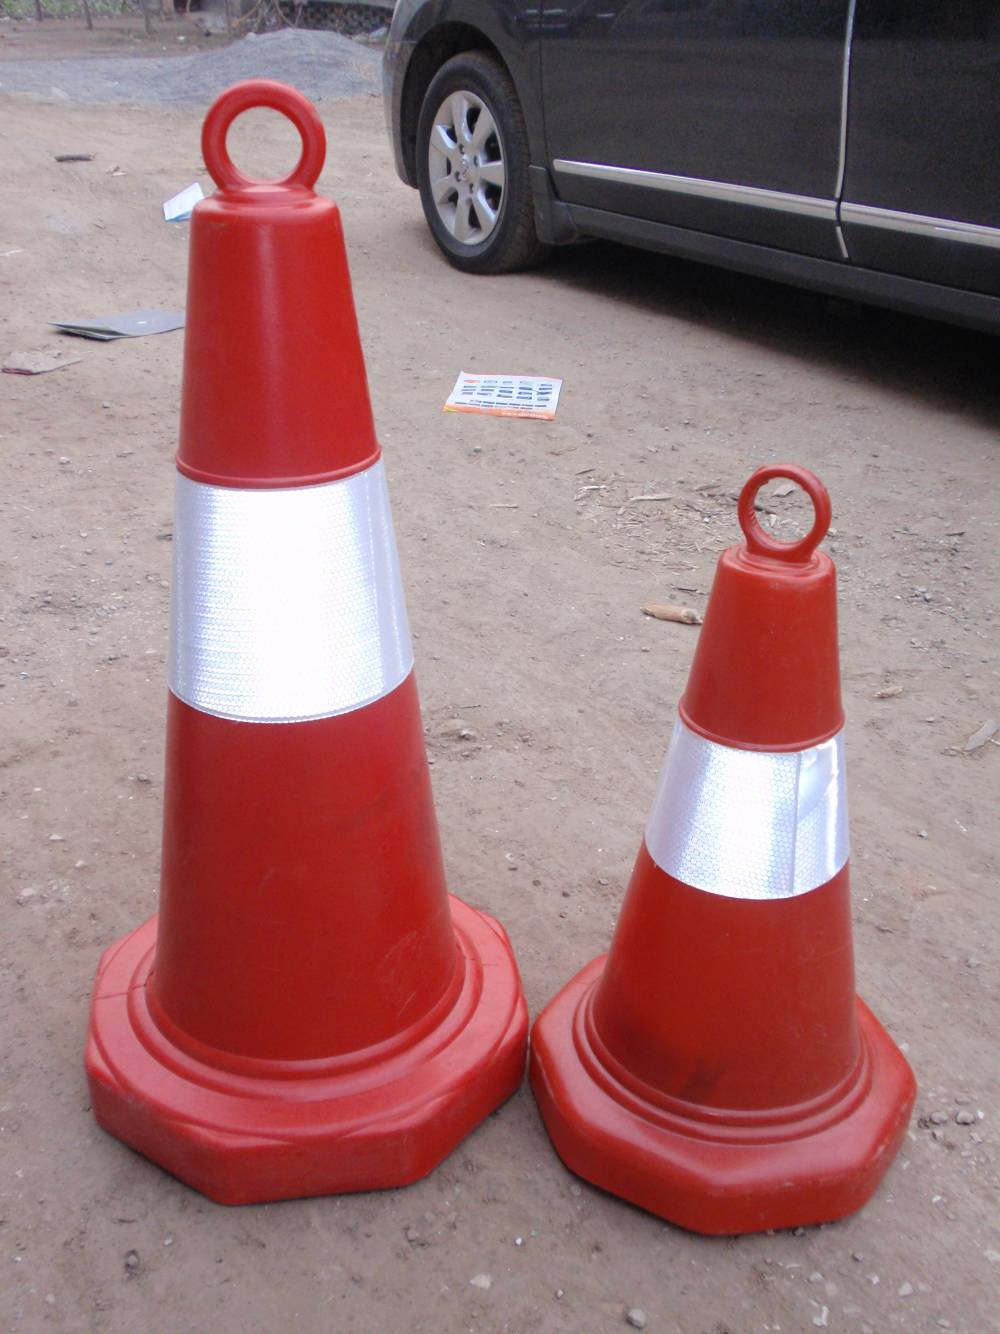traffic_cone: (68, 67, 555, 1196), (492, 419, 931, 1241)
